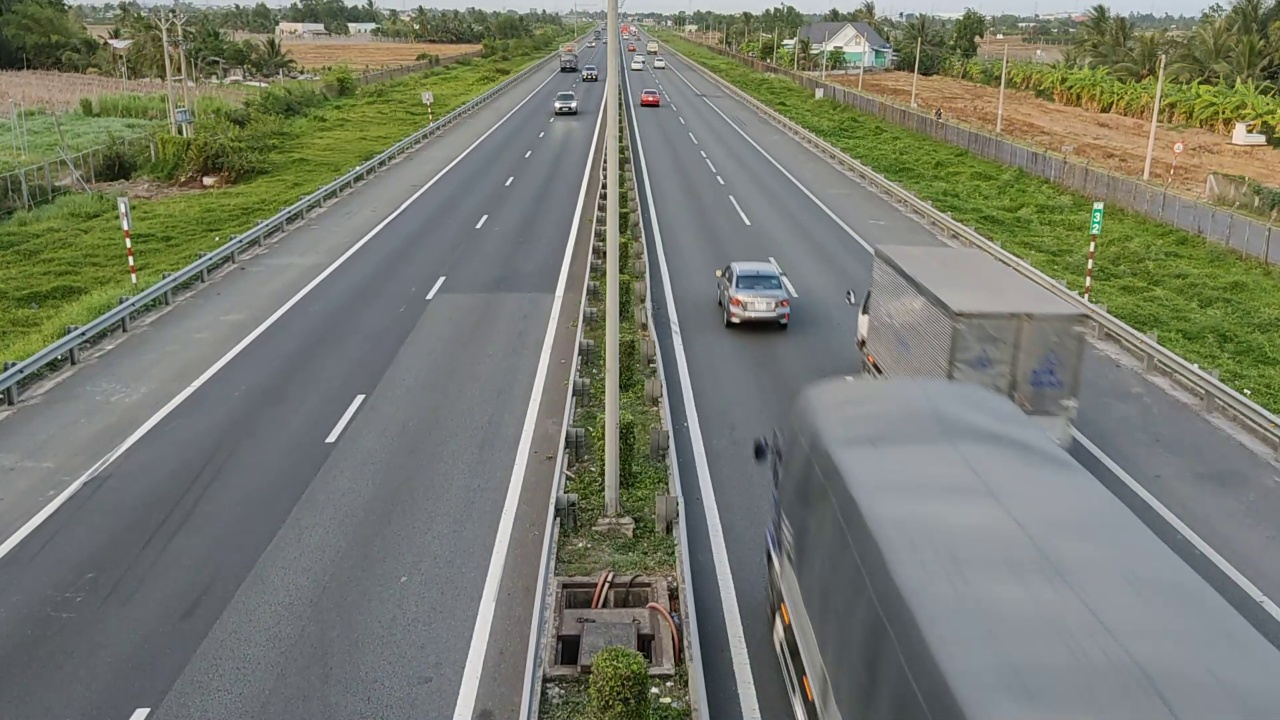car: (715, 260, 797, 328), (553, 91, 579, 115), (640, 88, 661, 107)
truck: (763, 368, 1276, 712)
